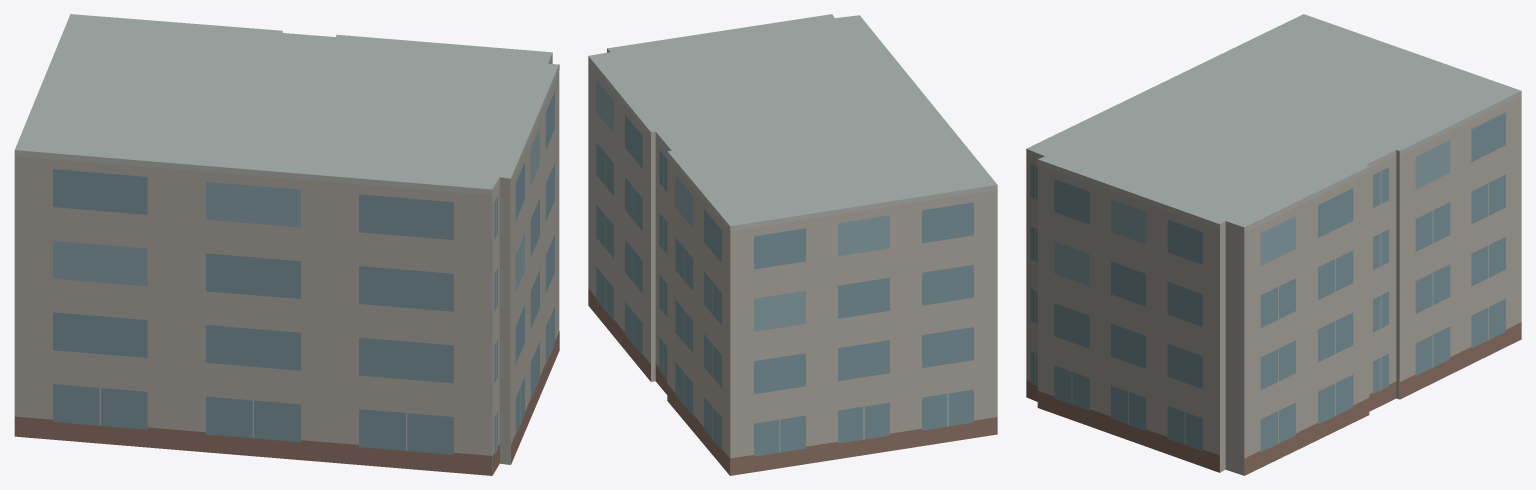
Rendered from survey-upis-32671090.glb.
The picture shows the model from 3 angles, left to right: view 1: azimuth 30°, elevation 25°; view 2: azimuth 150°, elevation 25°; view 3: azimuth 270°, elevation 25°; orthographic projection. The views are drawn at different scales.
Visible parts, largest first — view 1: survey-upis-32671090.tmp; view 2: survey-upis-32671090.tmp; view 3: survey-upis-32671090.tmp.
Boxes of the visible parts, bbox=[...] form: survey-upis-32671090.tmp: bbox=[14, 14, 559, 475]; survey-upis-32671090.tmp: bbox=[588, 14, 997, 475]; survey-upis-32671090.tmp: bbox=[1026, 14, 1521, 475].
Bounding box in the file's own units: 21.73 × 11.8 × 21.31.
